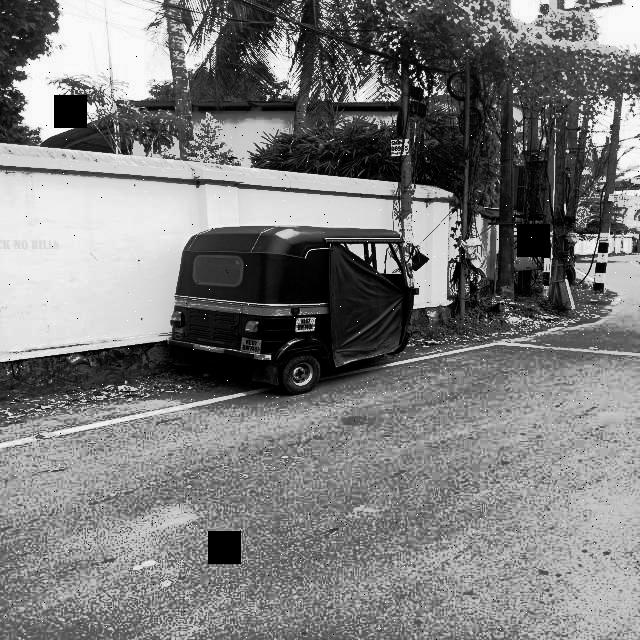Auto-Rickshaw: (164, 225, 426, 401)
